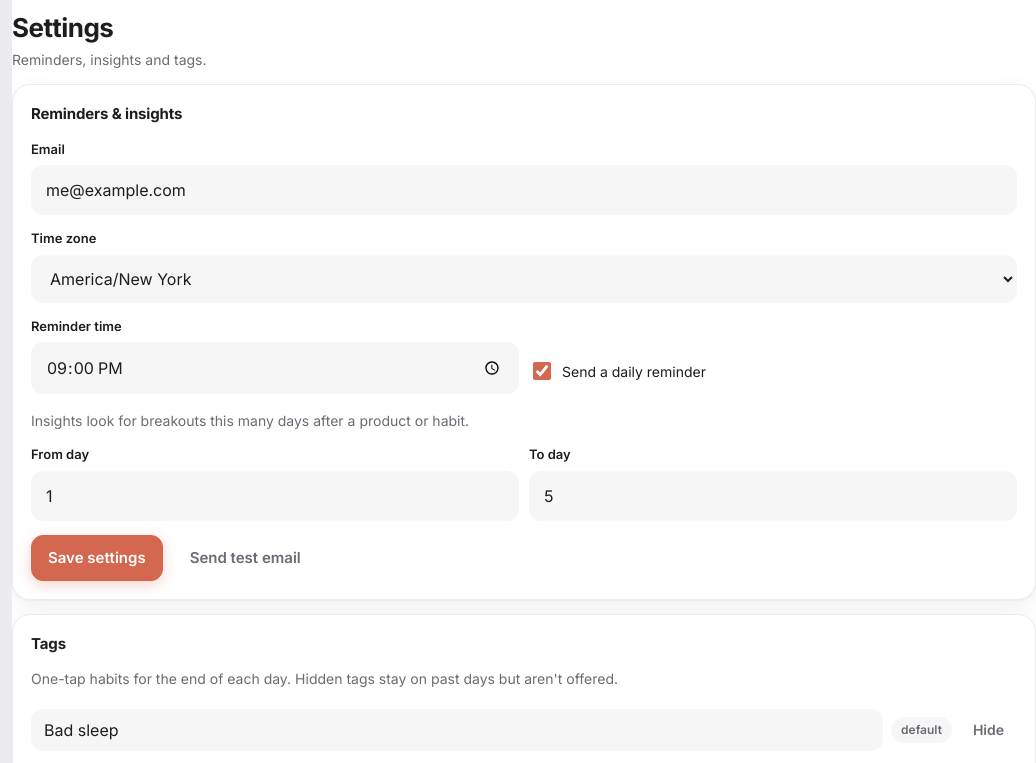
Test: Send test email › sends one now
Step 1. Click the button "Send test email" → click(245, 558), box [173, 534, 318, 581]
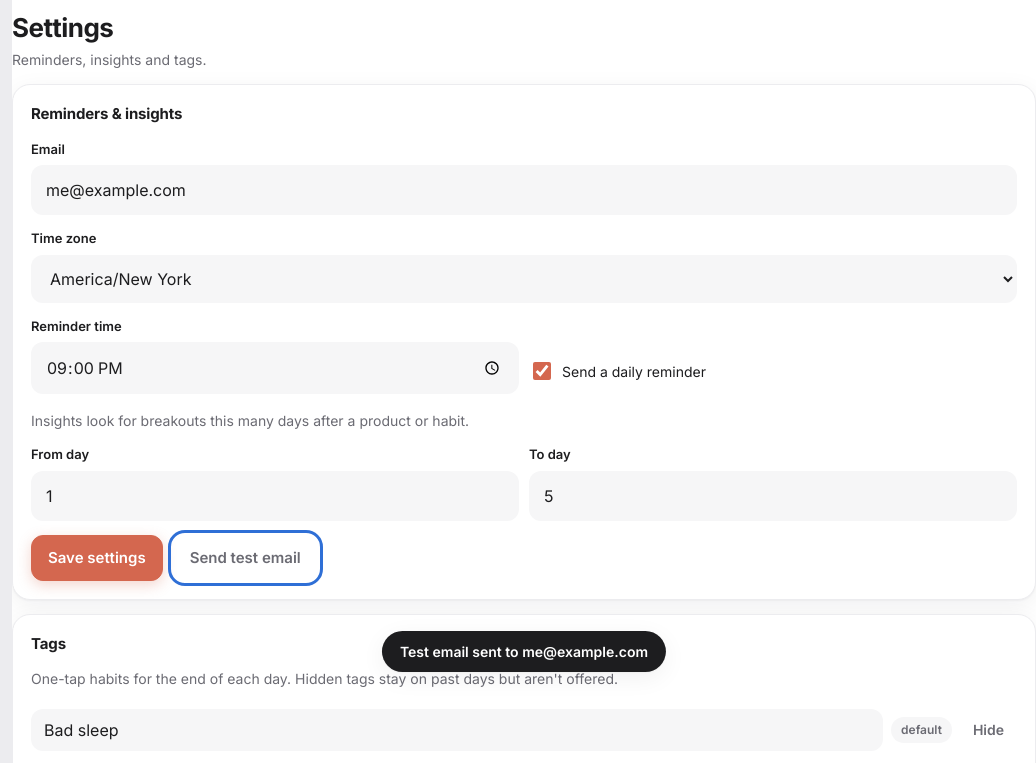
Expected: the text "Test email sent to me@example.com" is shown, [382, 631, 666, 672]
